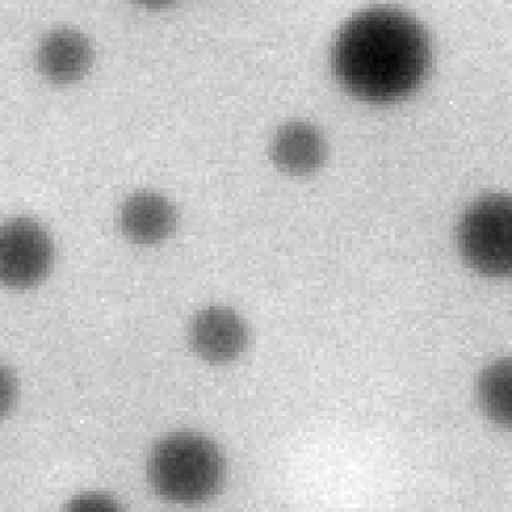Nanoparticles: (325, 0, 436, 107), (146, 426, 232, 508), (183, 298, 259, 372), (451, 186, 512, 278), (112, 183, 186, 252), (34, 16, 102, 88), (266, 112, 334, 182), (0, 216, 58, 293), (475, 355, 512, 433), (62, 486, 133, 512), (0, 356, 23, 428)
